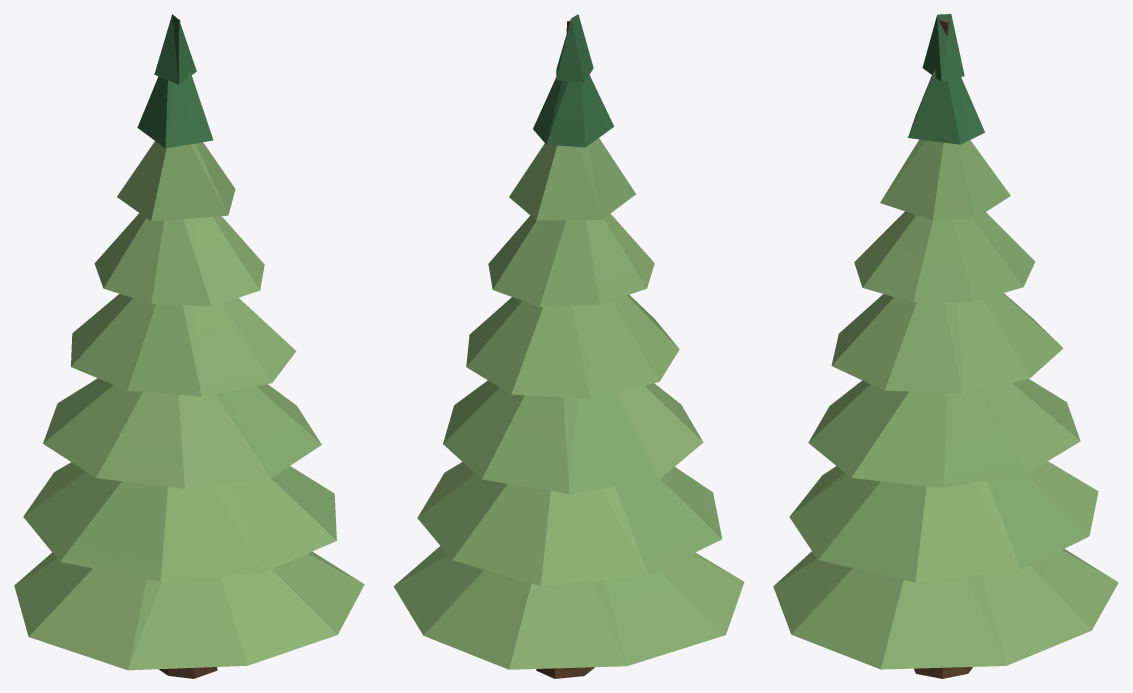
3 views of the same model, side by side, from view 1: azimuth 30°, elevation 25°; view 2: azimuth 150°, elevation 25°; view 3: azimuth 270°, elevation 25° (orthographic).
Visible parts, largest first — view 1: WK_Tree_Spruce_DeepNarrow_LOD2_Compact; view 2: WK_Tree_Spruce_DeepNarrow_LOD2_Compact; view 3: WK_Tree_Spruce_DeepNarrow_LOD2_Compact.
Boxes of the visible parts, x1,y1,x2,y2 form: WK_Tree_Spruce_DeepNarrow_LOD2_Compact: (14,14,364,678); WK_Tree_Spruce_DeepNarrow_LOD2_Compact: (393,14,744,678); WK_Tree_Spruce_DeepNarrow_LOD2_Compact: (773,14,1118,678).
Size of the model in its own units: 3.83 by 7.79 by 3.77.
